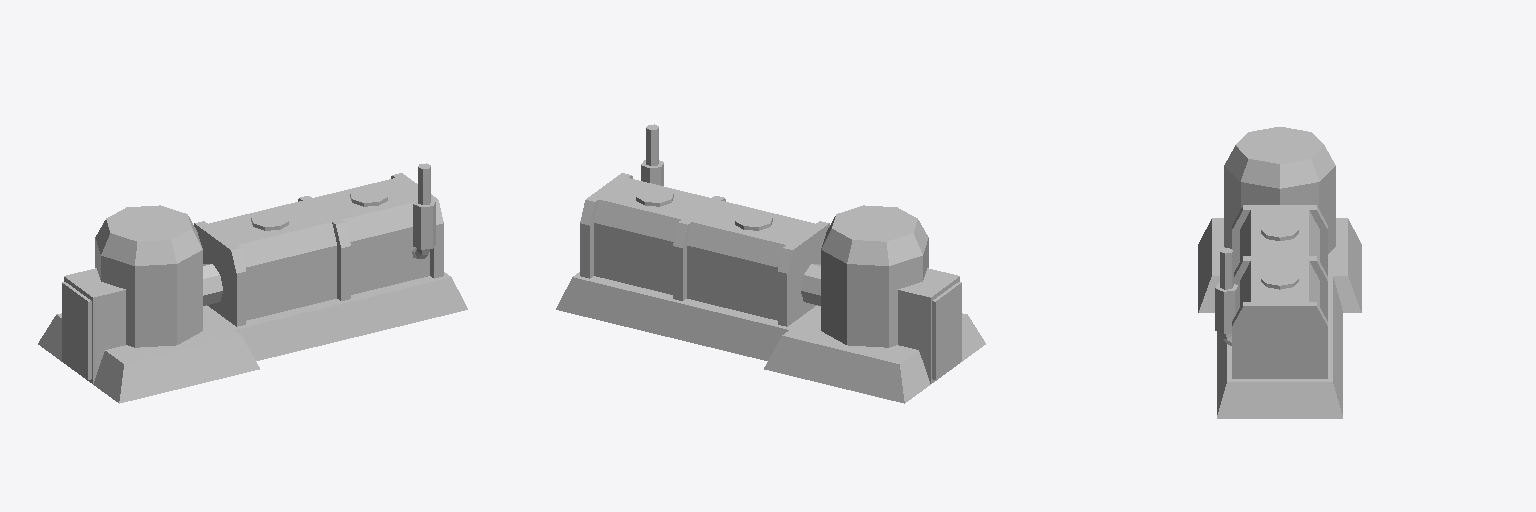
Rendered from SA_LD_Generator.obj.
3 renders of one model, left to right at view 1: azimuth 30°, elevation 25°; view 2: azimuth 150°, elevation 25°; view 3: azimuth 270°, elevation 25°, orthographic.
Visible parts, largest first — view 1: Circle; view 2: Circle; view 3: Circle.
Boxes of the visible parts, x1,y1,x2,y2 form: Circle: [38, 163, 467, 403]; Circle: [556, 124, 985, 403]; Circle: [1198, 127, 1361, 418].
Size of the model in its own units: 7.5 by 2.95 by 2.93.